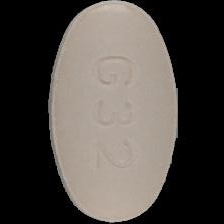68462-189: (0, 0, 224, 224)
